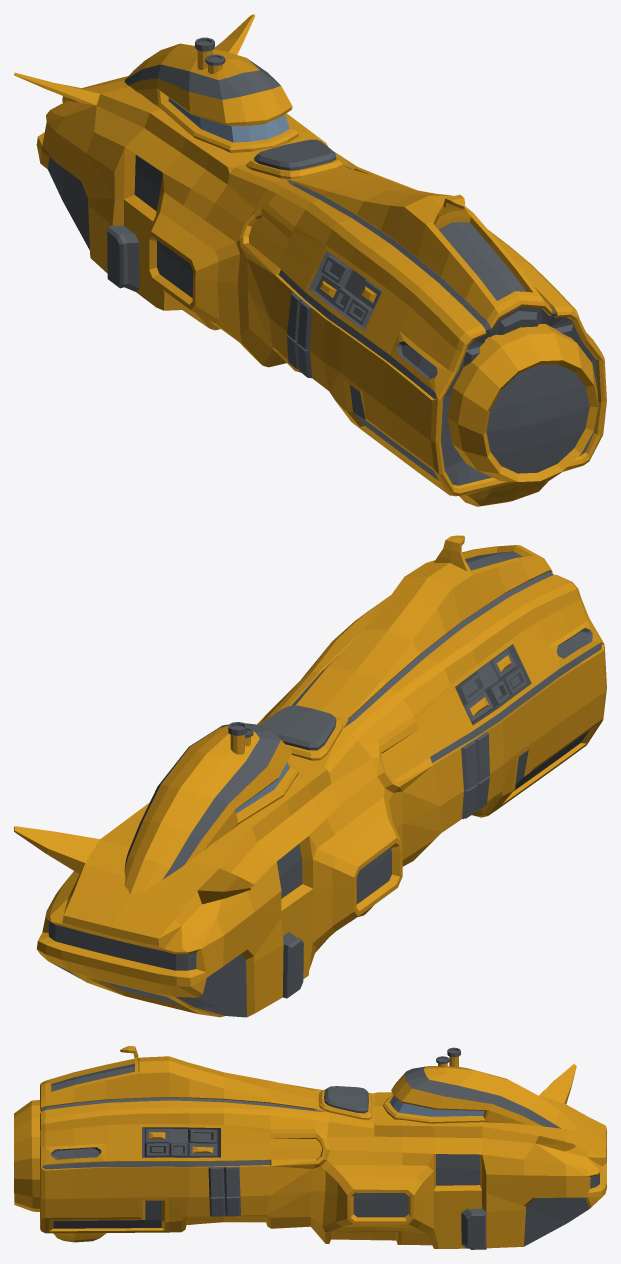
Rendered from Dropship_05__Yellow.fbx.
3 renders of one model, top to bottom at view 1: azimuth 30°, elevation 25°; view 2: azimuth 150°, elevation 25°; view 3: azimuth 270°, elevation 25°, orthographic. The views are drawn at different scales.
Visible parts, largest first — view 1: Dropship_05__Yellow; view 2: Dropship_05__Yellow; view 3: Dropship_05__Yellow.
Boxes of the visible parts, x1,y1,x2,y2 form: Dropship_05__Yellow: (14, 14, 606, 506); Dropship_05__Yellow: (14, 535, 606, 1017); Dropship_05__Yellow: (14, 1046, 606, 1249).
Bounding box in the file's own units: 545 × 575 × 1683.
Materials: 3 (3 with a texture image).
